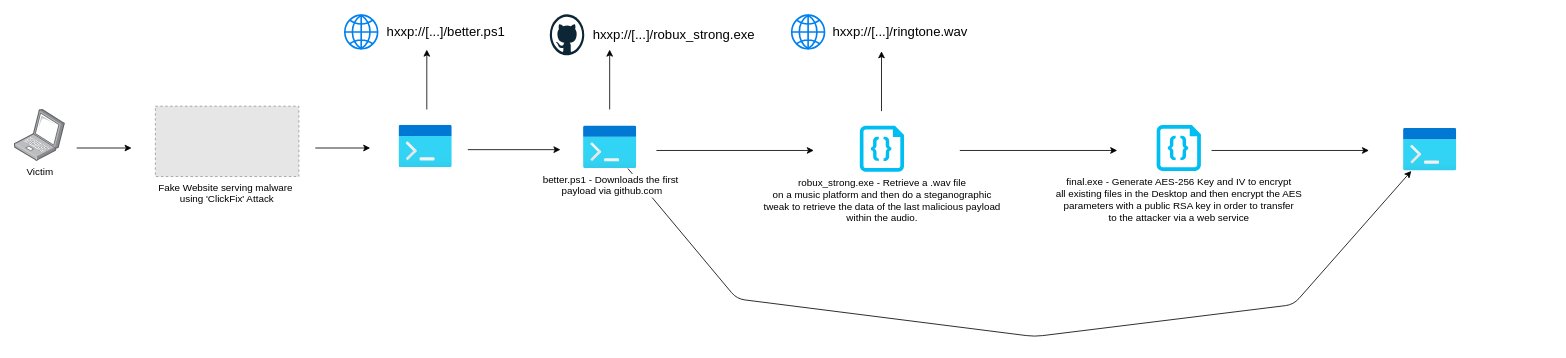
The diagram is 1566 pixels wide and 358 high, and some of its shapes have lost their labels. Grey dashed boxes stand in for pictures. The centre of each missing label's shape, as x and y in pixels:
better.ps1 - Remove the artefacts | UNLESS THE TEMP FILE STORING THE AES KEY: the point at 1429,149
Malicious PwSh Retrieving a second Malicious PwSh: the point at 425,146
